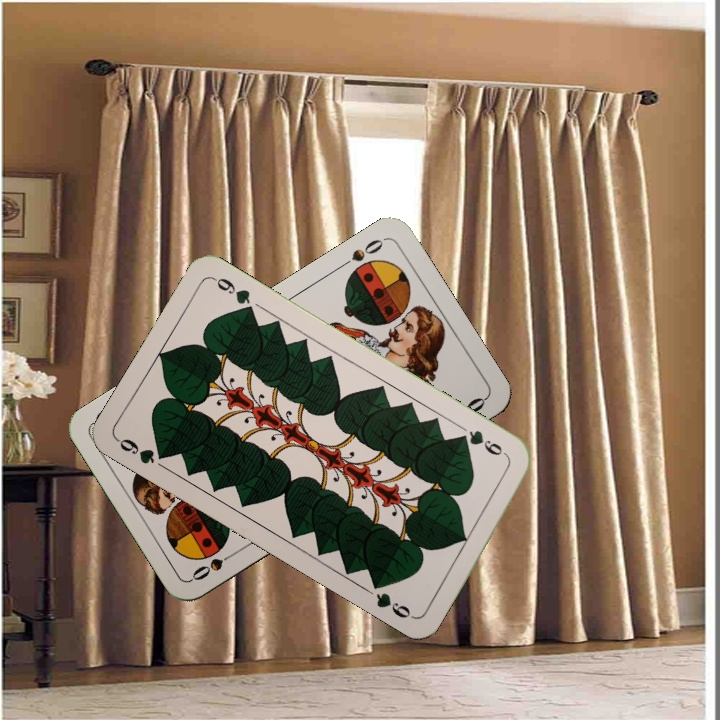G9: (454, 426, 511, 461), (113, 434, 172, 467)
SO: (187, 546, 242, 584), (335, 234, 388, 272)
